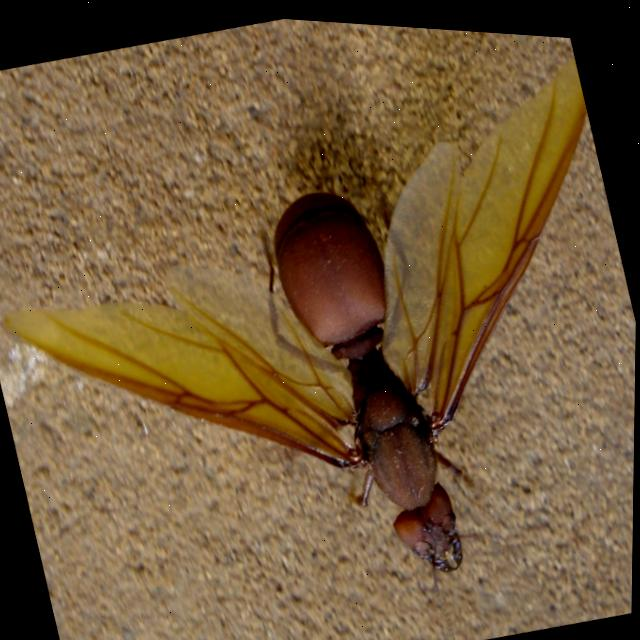Alive-Female-Alate: (0, 14, 640, 640)
